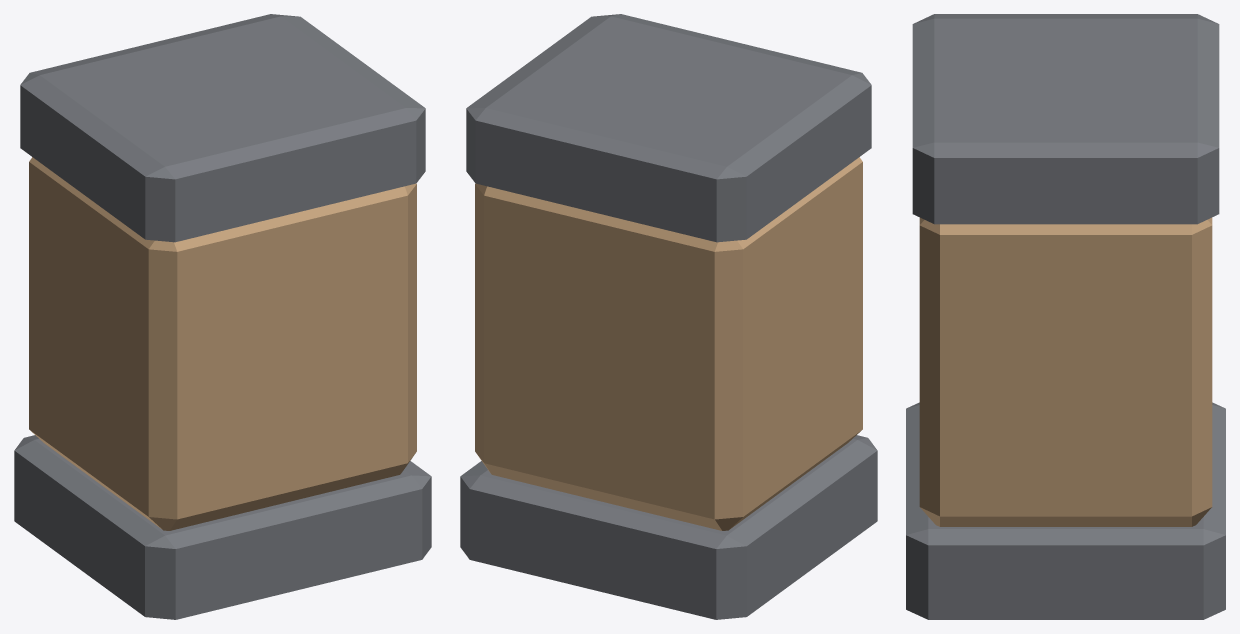
File: b10_wood_fired_pizza_oven_cart.glb
The picture shows the model from 3 angles, left to right: view 1: azimuth 30°, elevation 25°; view 2: azimuth 150°, elevation 25°; view 3: azimuth 270°, elevation 25°; orthographic projection. The views are drawn at different scales.
Visible parts, largest first — view 1: b10_wood_fired_pizza_oven_cart; view 2: b10_wood_fired_pizza_oven_cart; view 3: b10_wood_fired_pizza_oven_cart.
Part boxes in pixels (x1,y1,x2,y2): b10_wood_fired_pizza_oven_cart: (14, 14, 431, 619); b10_wood_fired_pizza_oven_cart: (460, 14, 877, 619); b10_wood_fired_pizza_oven_cart: (906, 14, 1225, 619).
Size of the model in its own units: 1.36 by 2.03 by 1.25.
